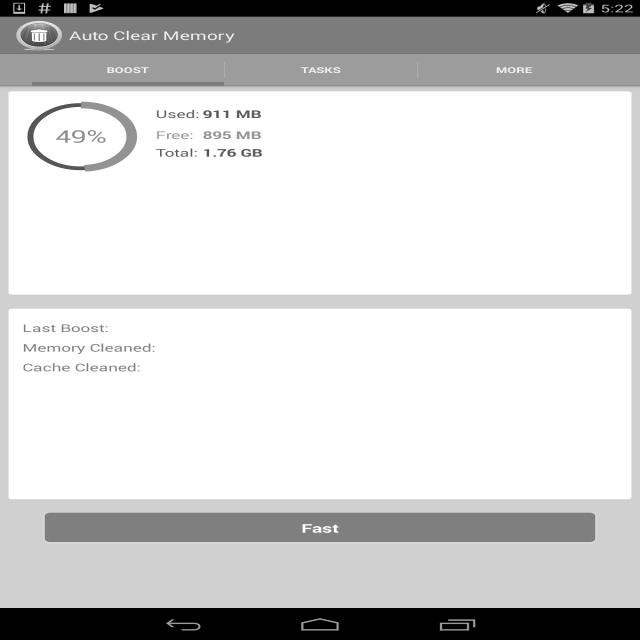Button: (43, 512, 597, 544)
ImageView: (14, 19, 64, 52)
TextView: (22, 340, 623, 355), (22, 321, 623, 335), (22, 360, 623, 374), (68, 27, 235, 43), (199, 145, 263, 160), (199, 107, 263, 121), (199, 128, 263, 142), (156, 145, 199, 160), (156, 107, 199, 121), (156, 128, 199, 142), (106, 64, 148, 76), (301, 64, 341, 76), (496, 64, 532, 76)
